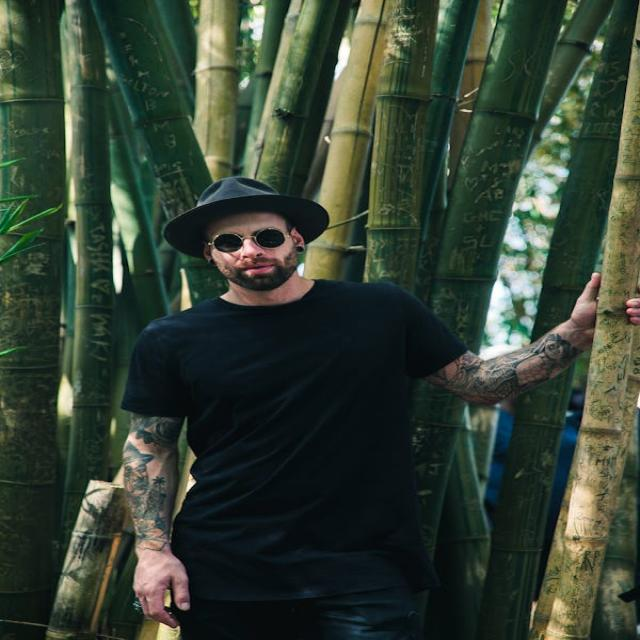Real human 2: (103, 174, 582, 640)
